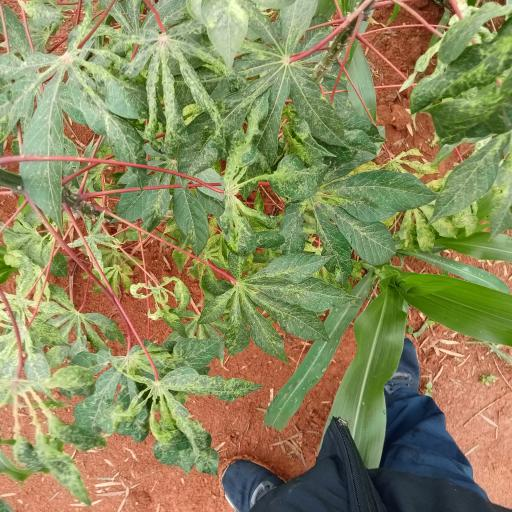Cassava_Mosaic: (2, 52, 142, 209), (206, 252, 354, 369), (97, 28, 245, 144), (123, 357, 253, 471), (4, 365, 110, 499)
